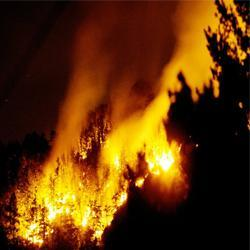fire: (32, 191, 103, 224), (150, 147, 179, 181), (16, 224, 49, 247)
